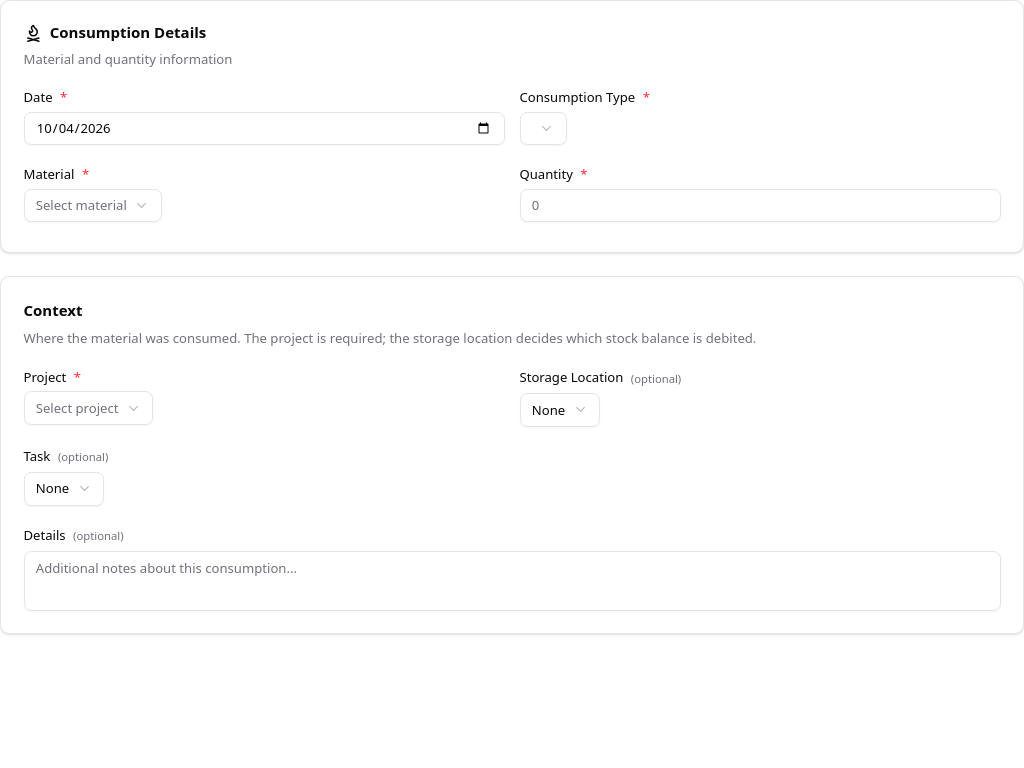
Test: MaterialConsumptionForm › shows the balance at the chosen project and location, not the organisation total
Press ArrowDown in the dropdown labelled "Select project", box [24, 391, 153, 425]
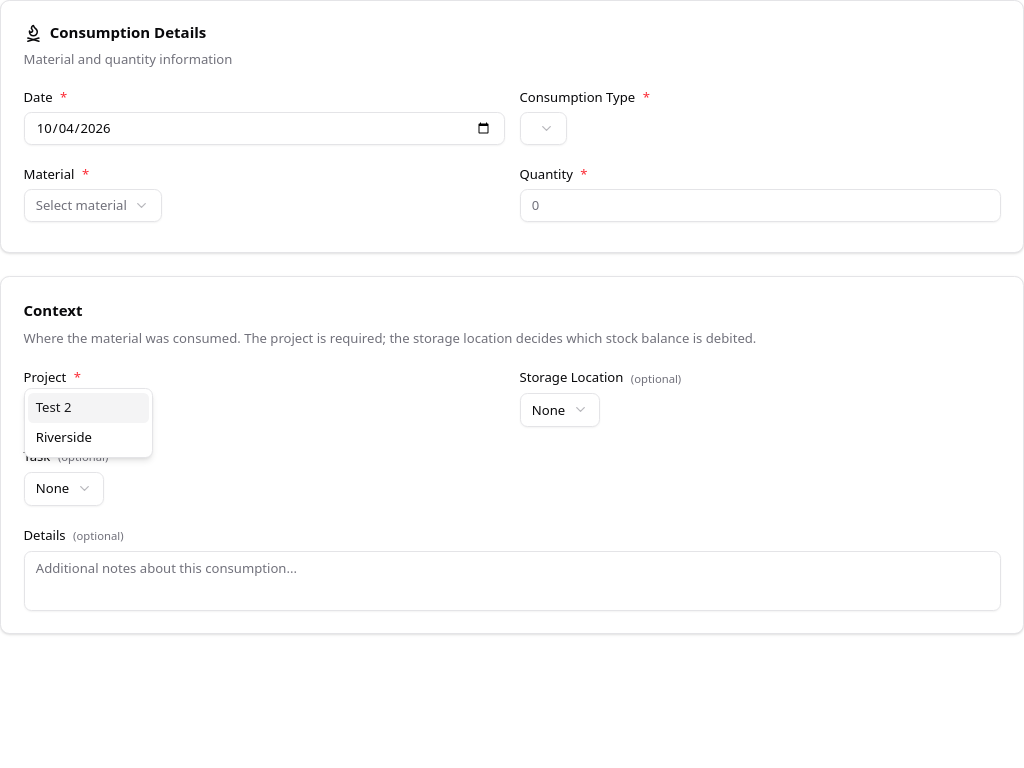
Click the option "Test 2". click: point(88, 408)
box: [28, 393, 149, 423]
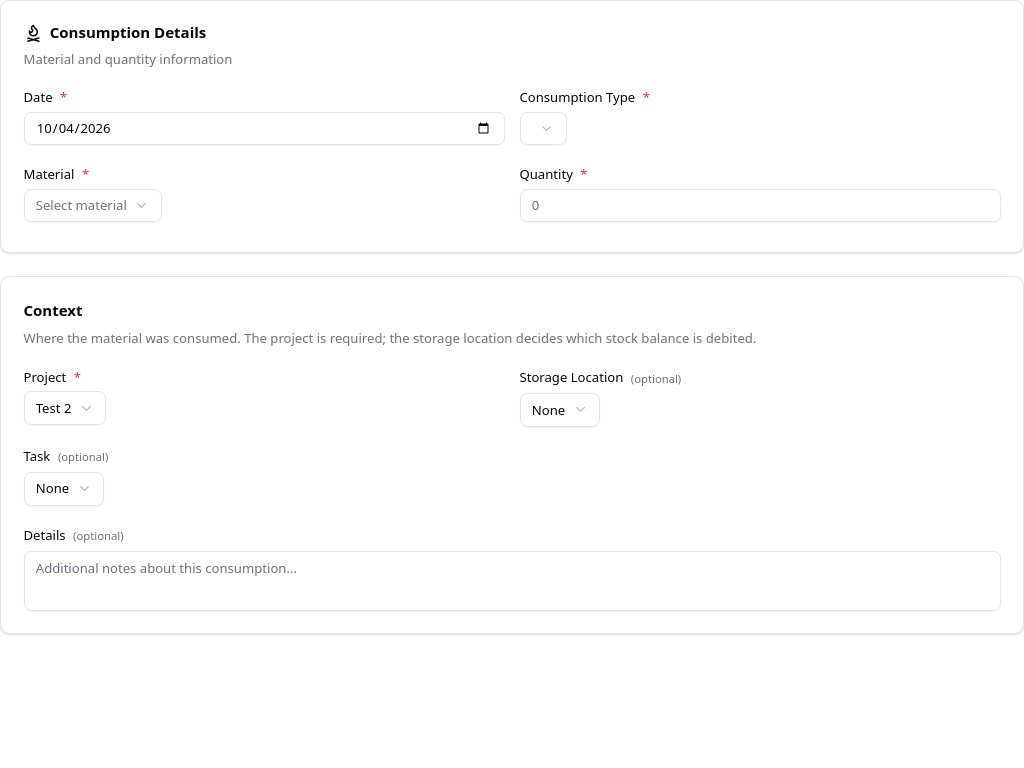
Press ArrowDown in the 1st dropdown labelled "None", box [520, 393, 600, 427]
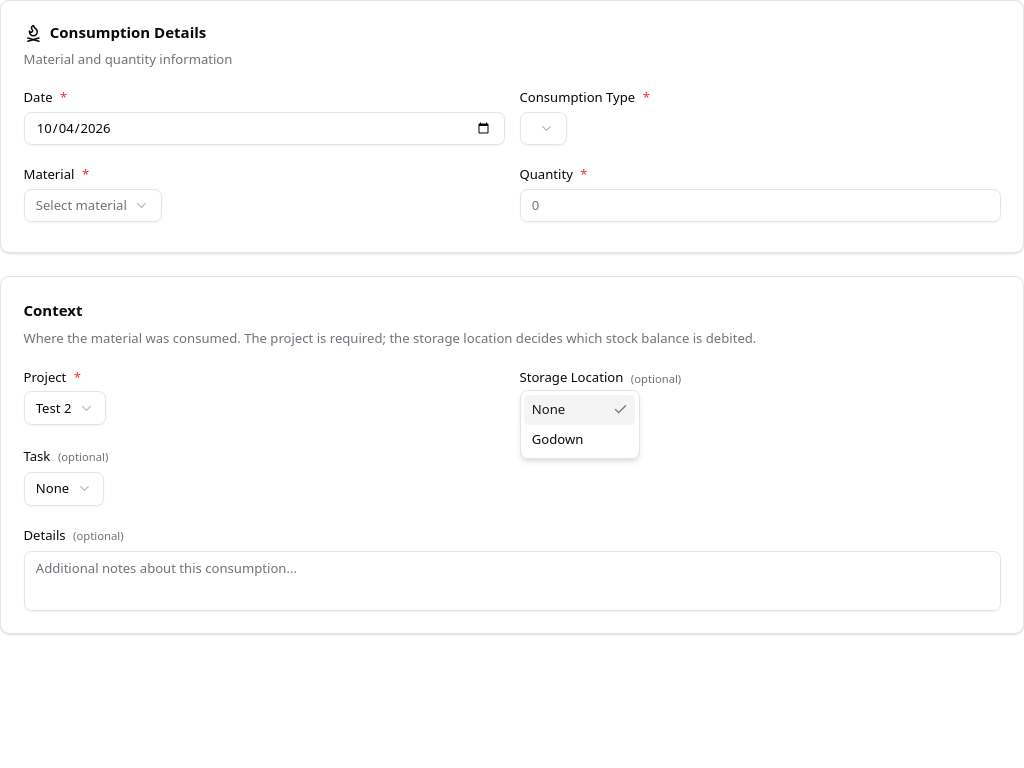
Click the option "Godown". click: point(558, 439)
box: [532, 430, 583, 448]
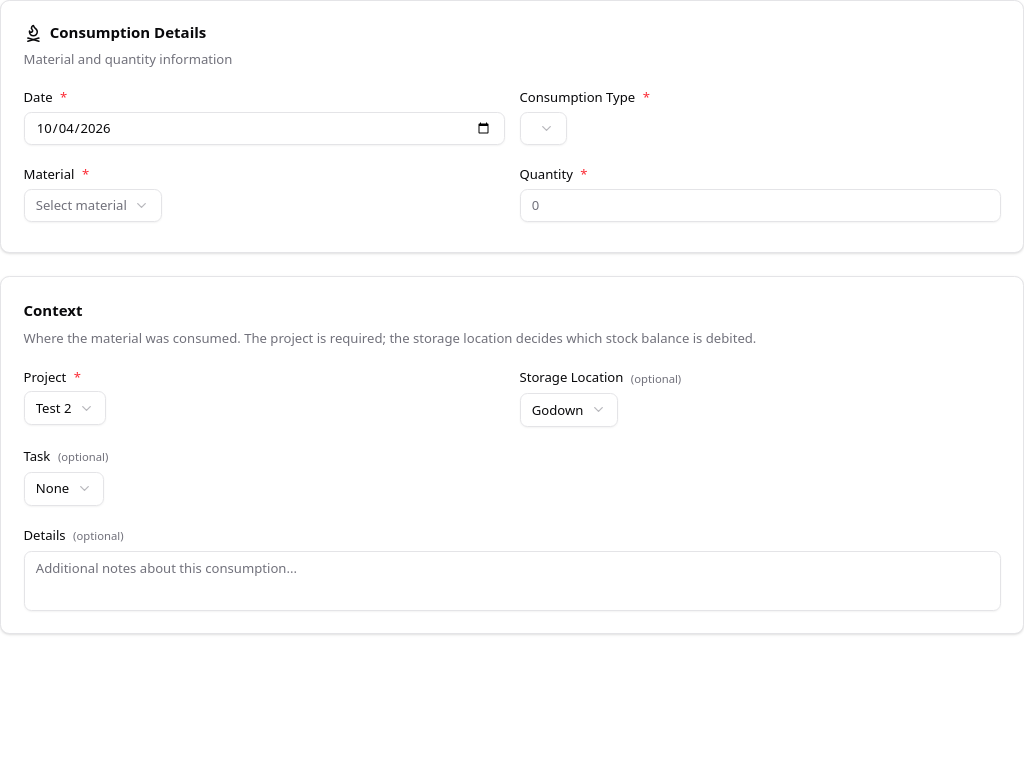
Press ArrowDown in the dropdown labelled "Select material", box [24, 188, 162, 222]
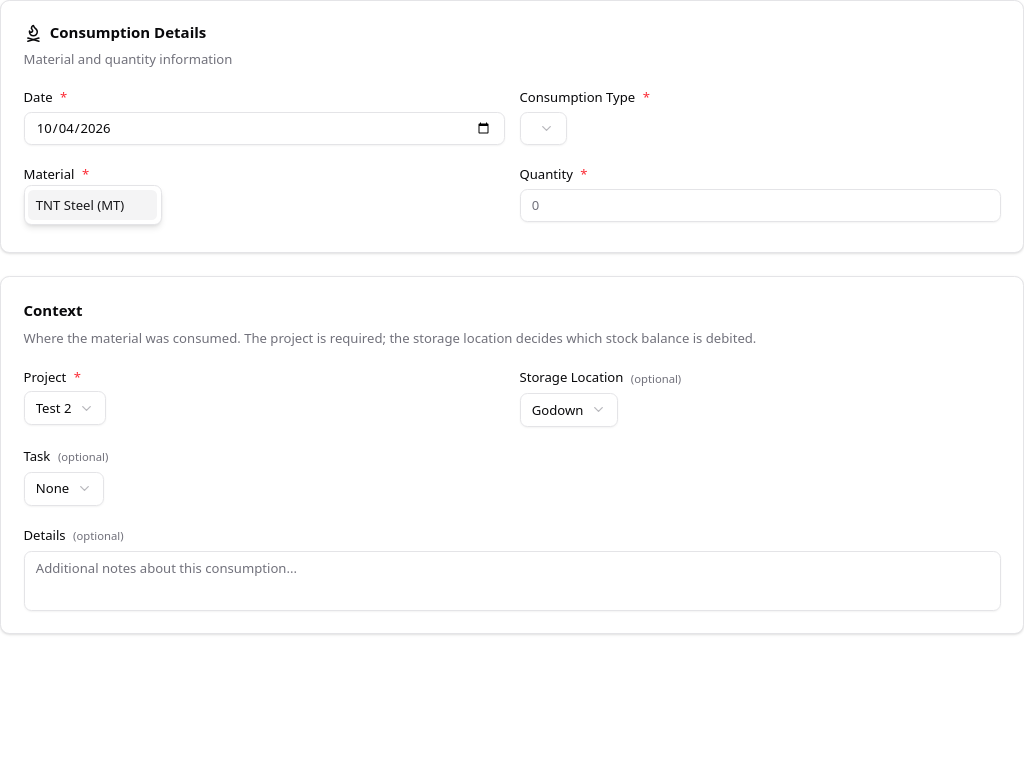
Click the option "TNT Steel (MT)". click: point(93, 205)
box: [28, 190, 157, 220]
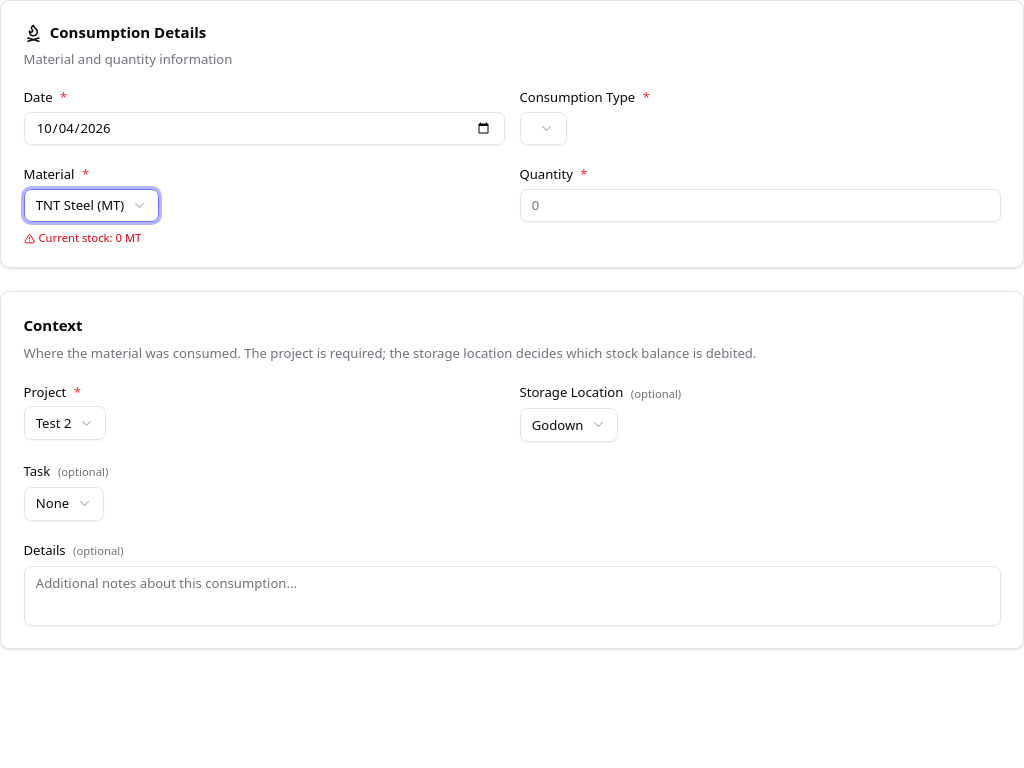
Expected: the text "Current stock: 0 MT" is shown, [24, 230, 141, 245]
